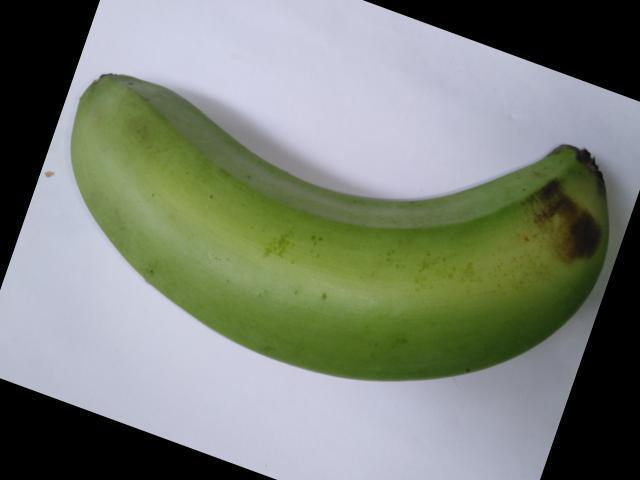freshunripe: (62, 54, 615, 408)
